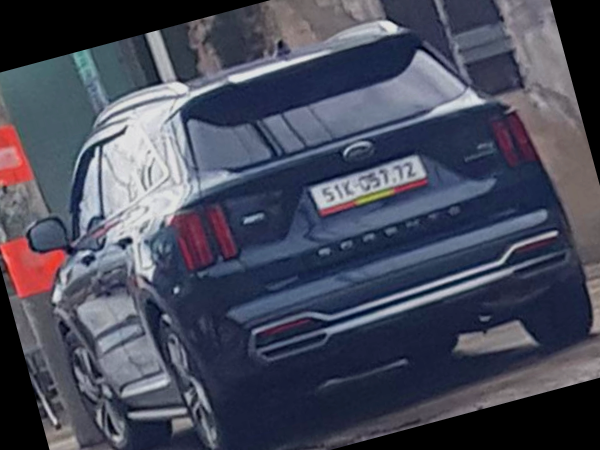lisence: (312, 151, 430, 216)
